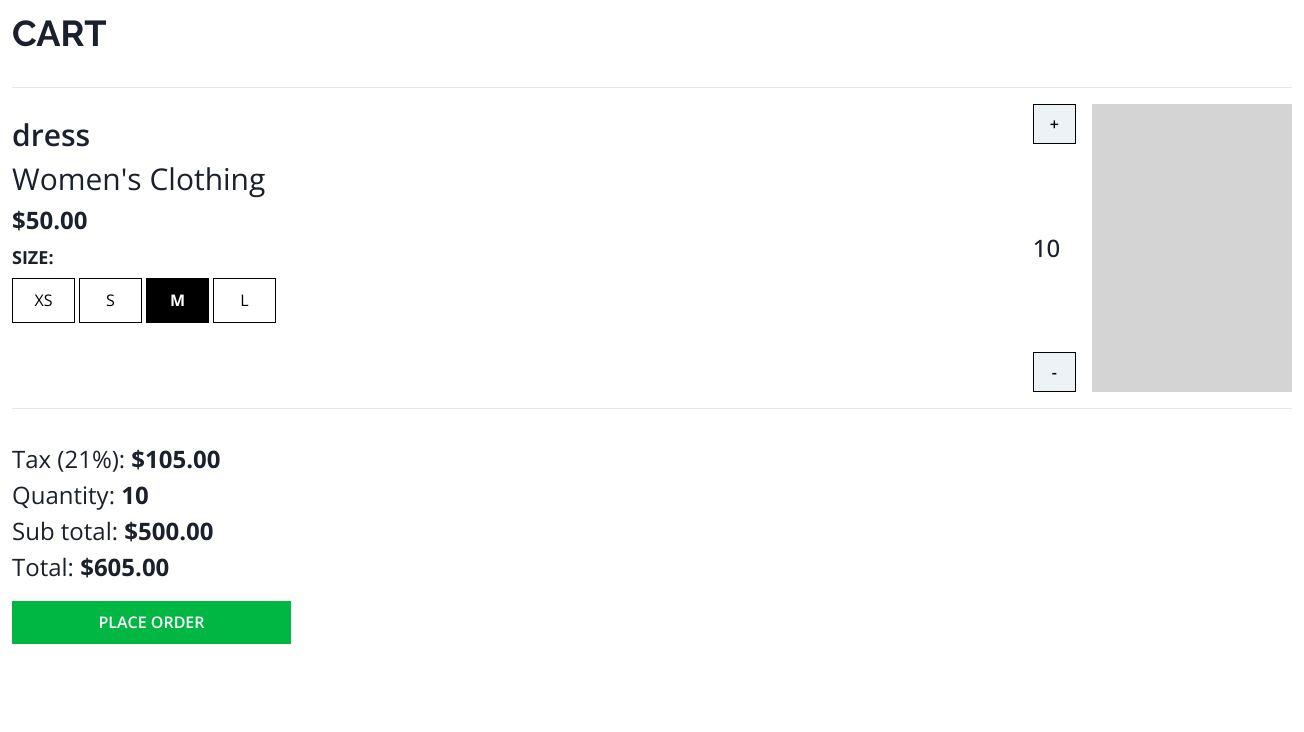
Test: updates quantity
Expected: the text "10" in the row of "$50.00" is shown, [1033,231,1060,264]
Click the button "+": (1054, 124) [1033,104,1076,144]
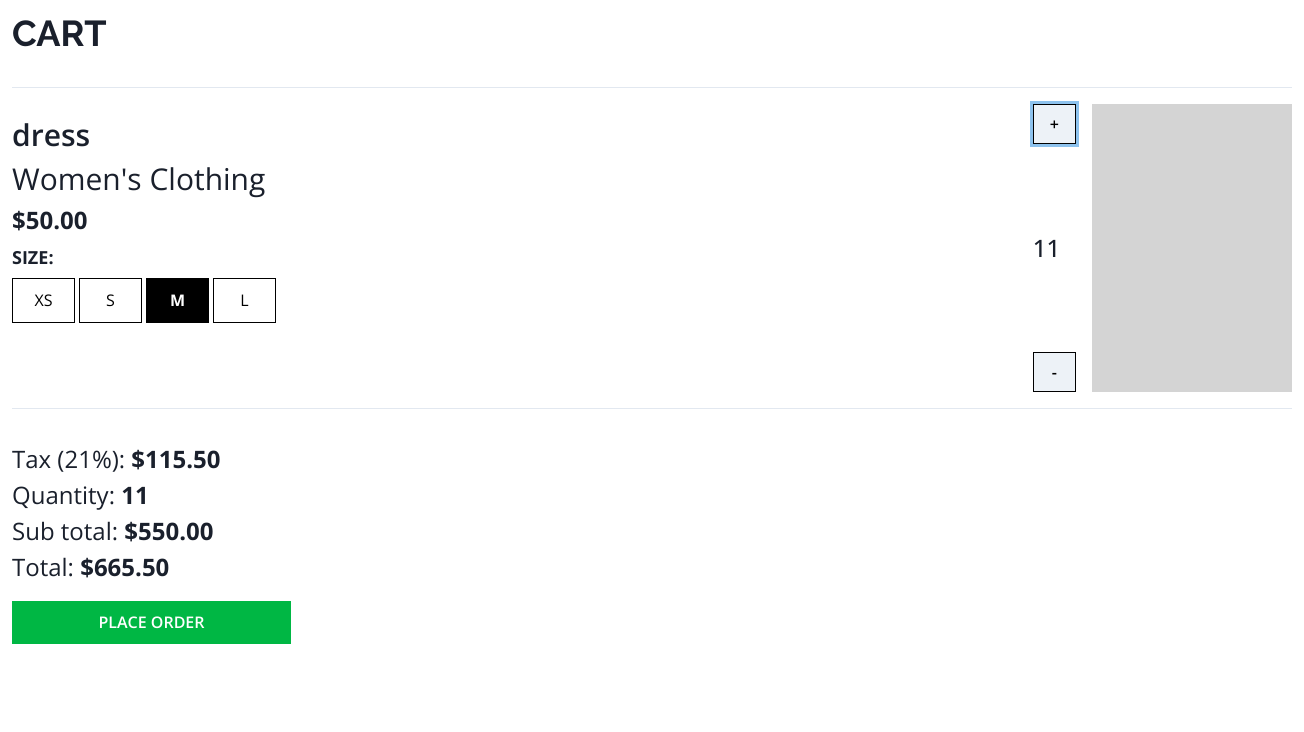
Expected: the text "11" in the row of "$50.00" is shown, [1033,231,1060,264]
Expected: the text "10" is gone
Click the button "-": (1054, 372) [1033,352,1076,392]
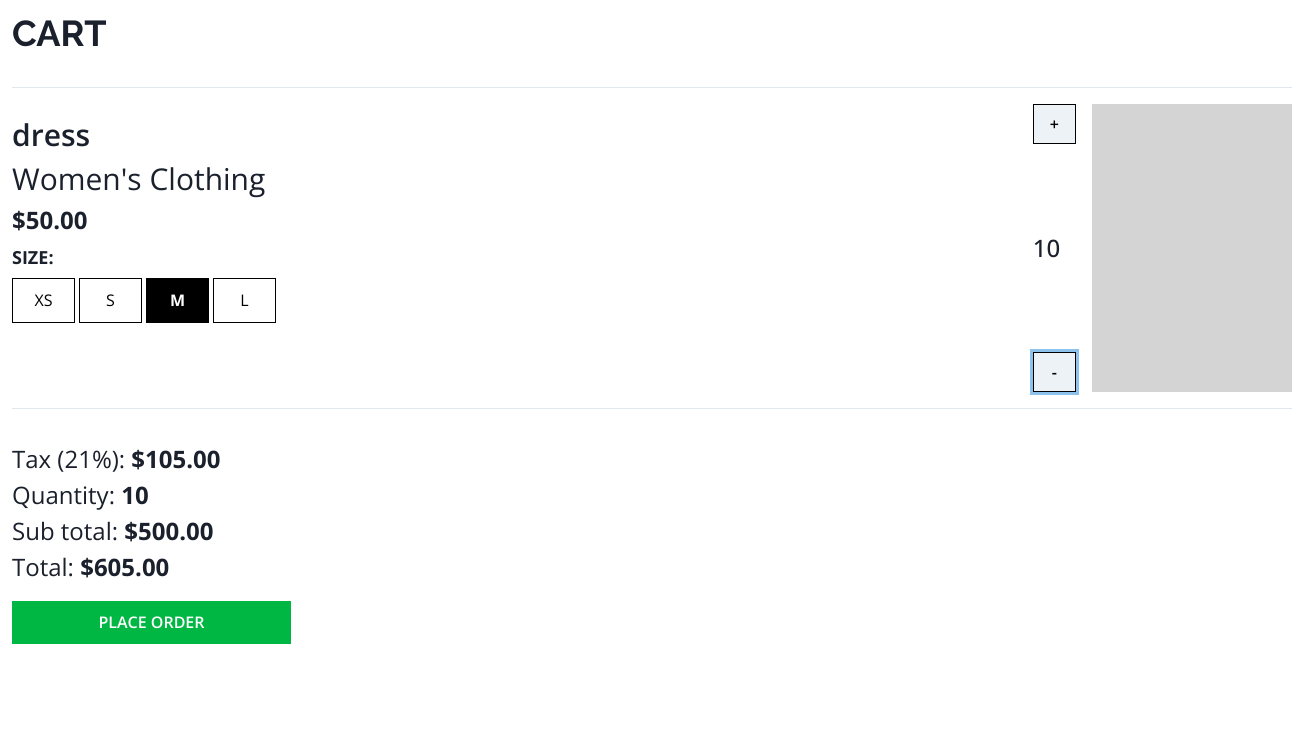
Expected: the text "10" in the row of "$50.00" is shown, [1033,231,1060,264]
